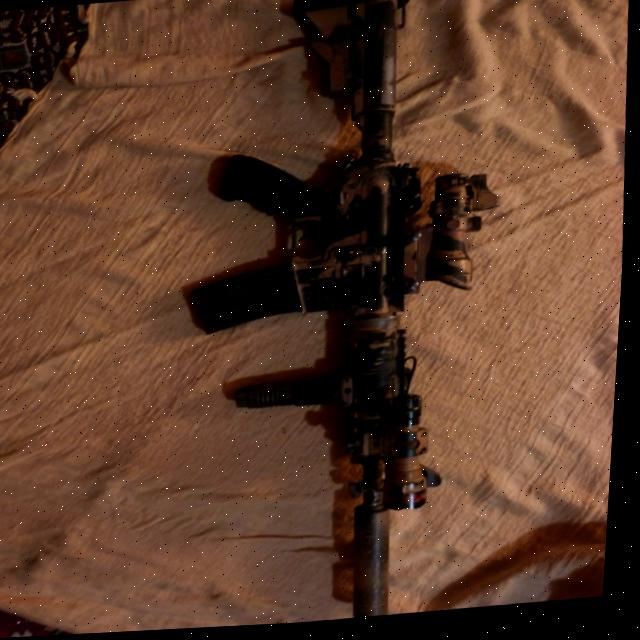firearm: (161, 0, 530, 632)
